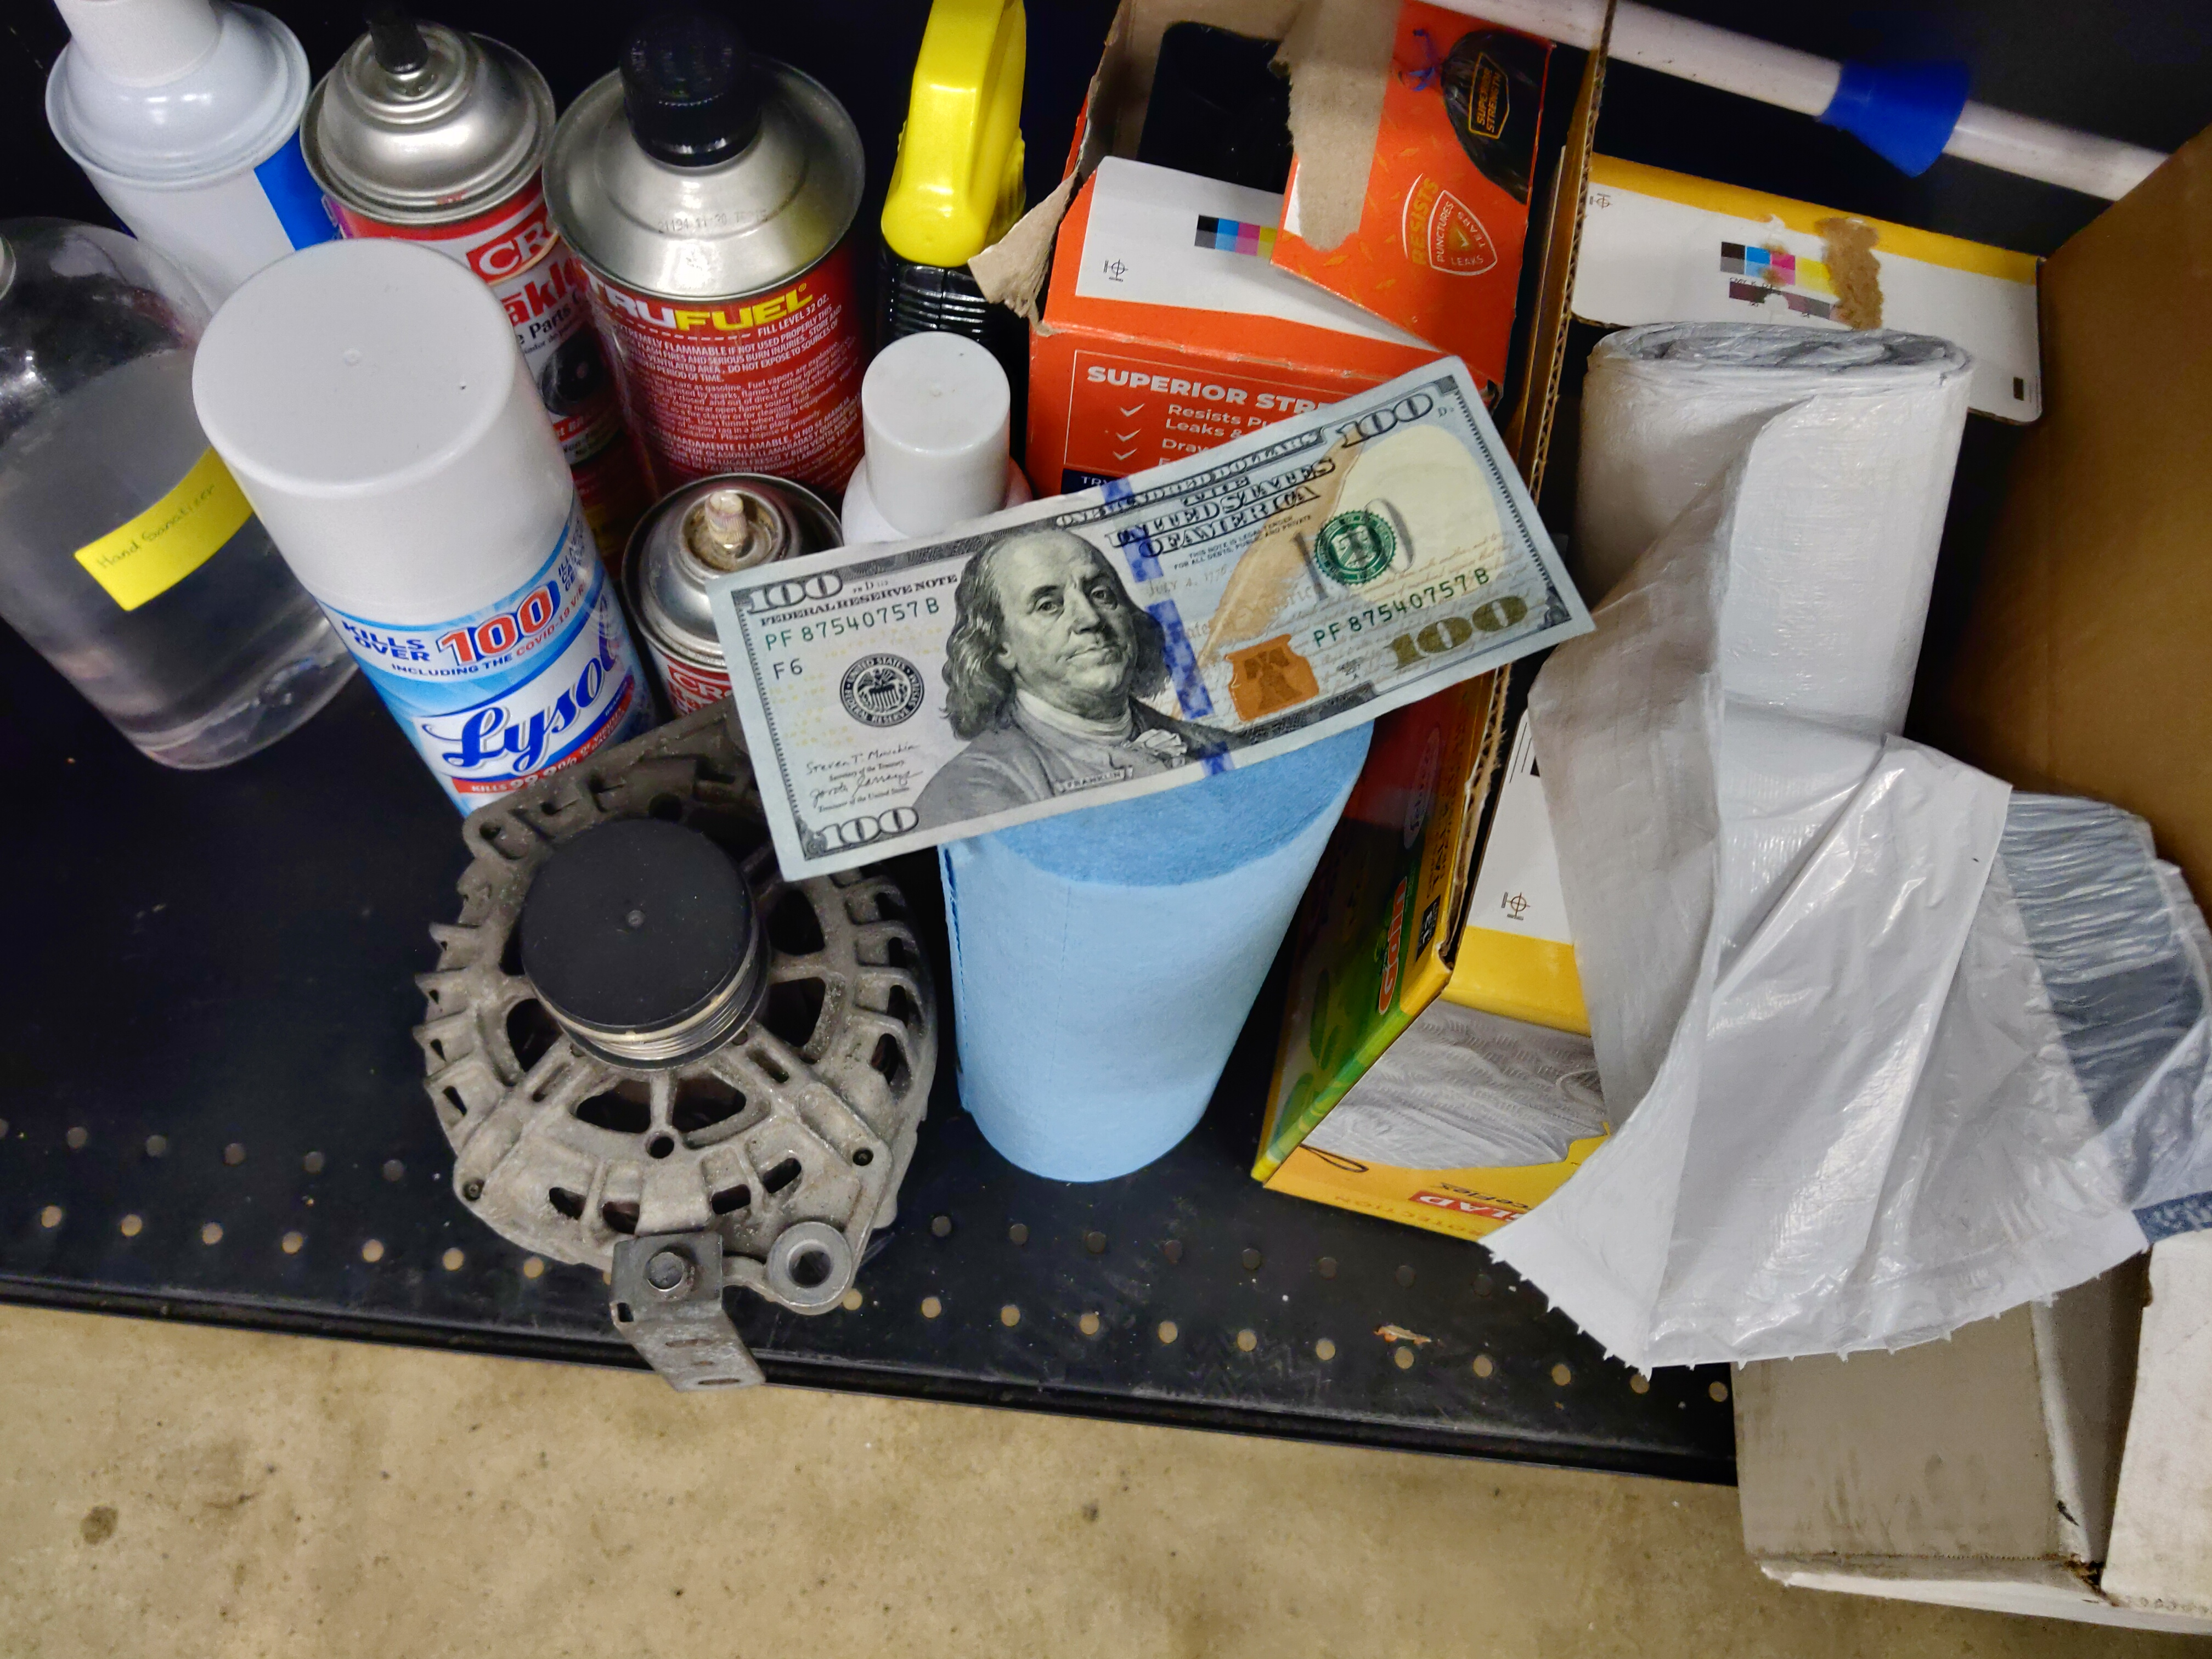HundredBill: (698, 352, 1602, 885)
